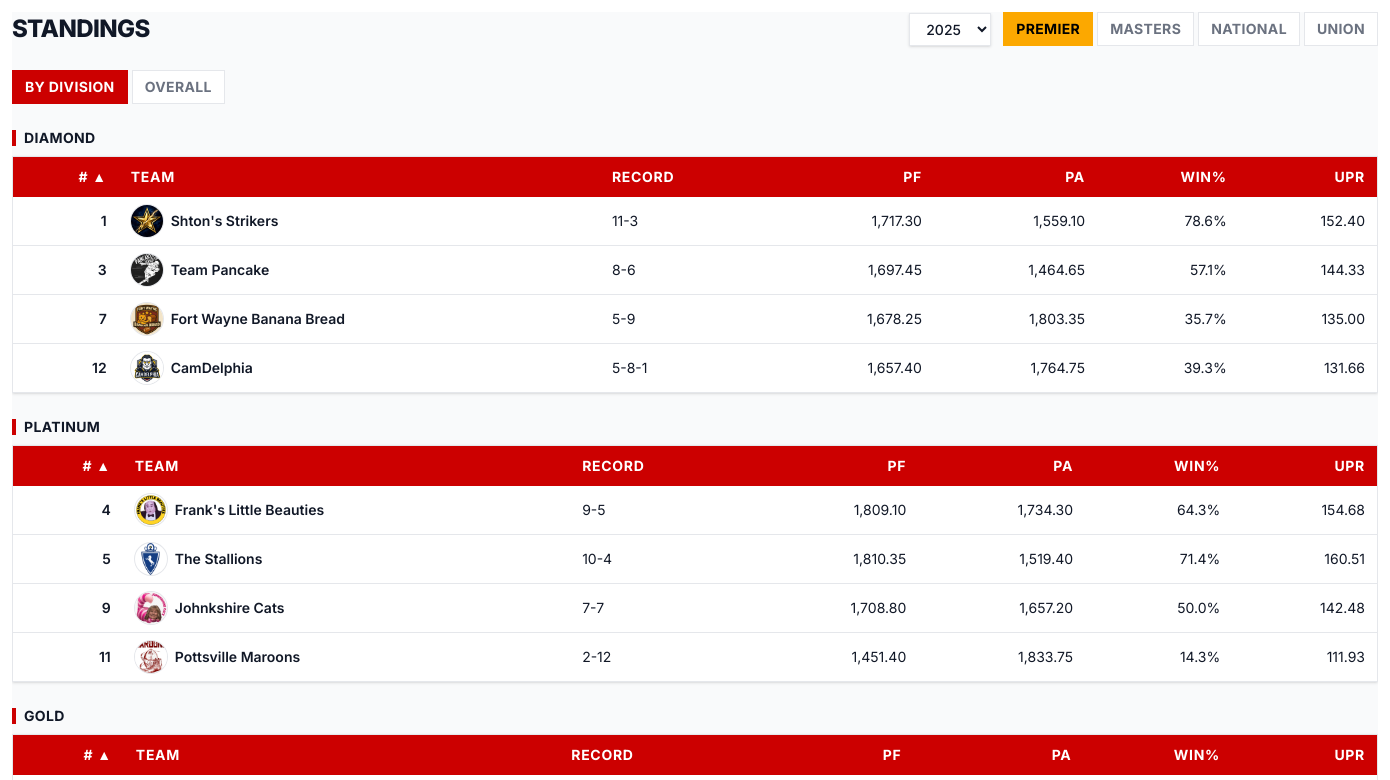
Test case: switches between leagues
The width and height of the screenshot is (1390, 780).
Expected: the heading "Diamond" is shown, [12,129,96,146]
Step 1. Click the button "National" → [1249, 29], box [1198,12,1300,46]
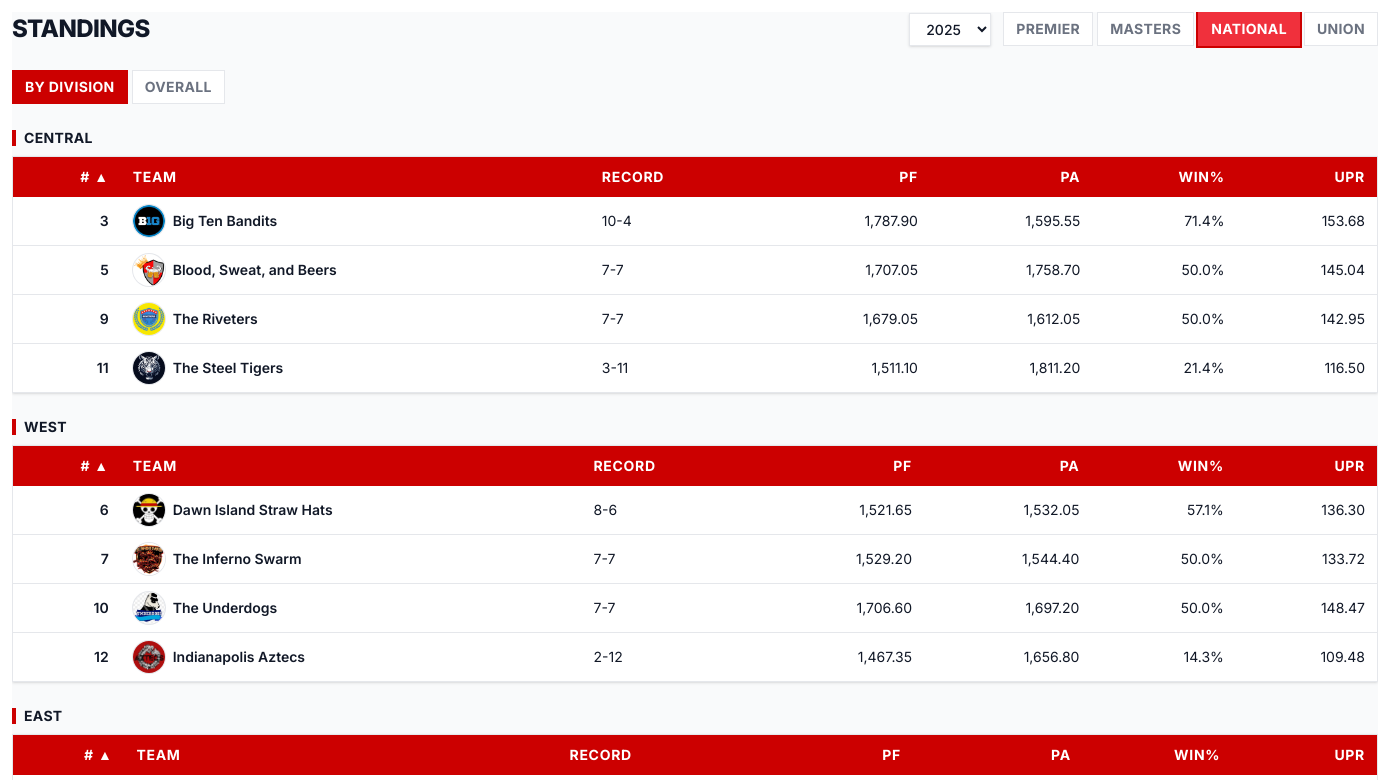
Now the heading "Diamond" is gone
